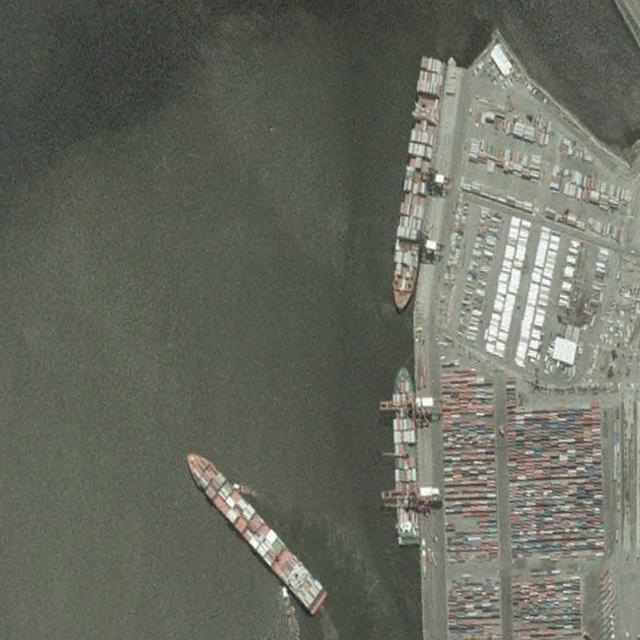Container Ship: (179, 440, 330, 618), (385, 55, 448, 316), (392, 365, 420, 547)
